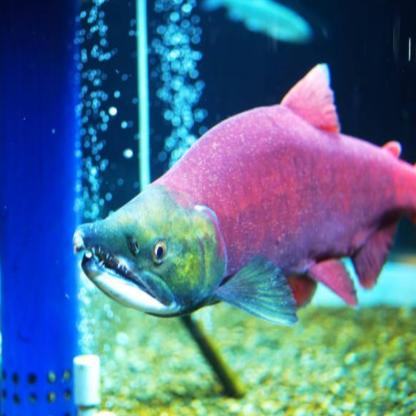sockeye: (80, 68, 412, 330)
